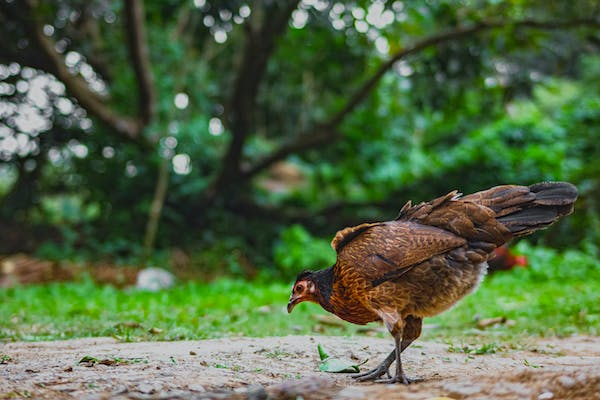Walking: (219, 158, 589, 384)
